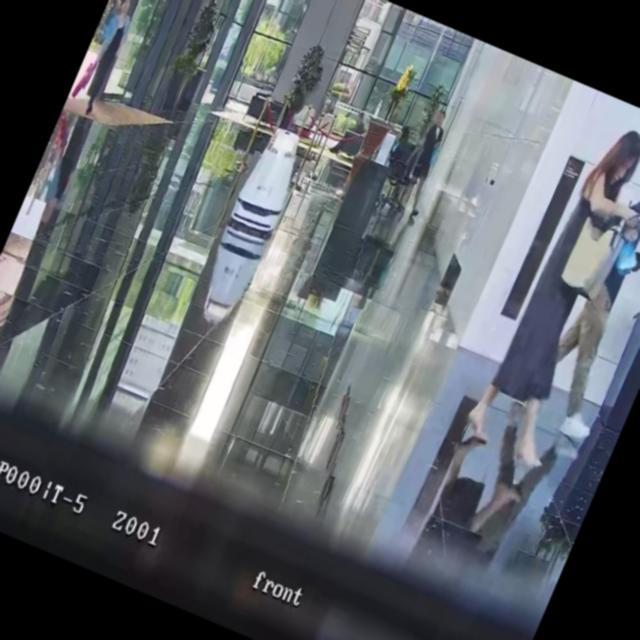person: (455, 113, 640, 479), (524, 152, 640, 445), (69, 0, 143, 115), (394, 106, 456, 213), (328, 106, 369, 160), (382, 122, 416, 176)
